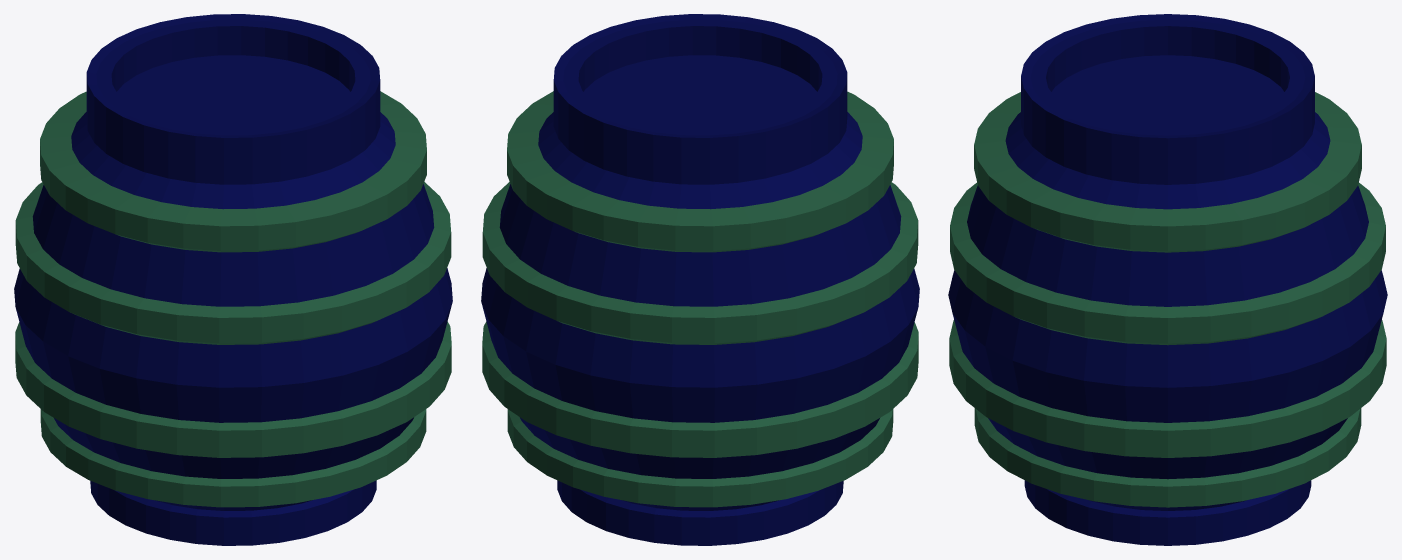
Rendered from F_Beczka.fbx.
3 views of the same model, side by side, from view 1: azimuth 30°, elevation 25°; view 2: azimuth 150°, elevation 25°; view 3: azimuth 270°, elevation 25° (orthographic).
Visible parts, largest first — view 1: F_beczka_07.002; view 2: F_beczka_07.002; view 3: F_beczka_07.002.
Boxes of the visible parts, x1,y1,x2,y2 form: F_beczka_07.002: (14,14,452,545); F_beczka_07.002: (481,14,919,545); F_beczka_07.002: (948,14,1387,545).
Size of the model in its own units: 84.07 by 86.37 by 84.07.
